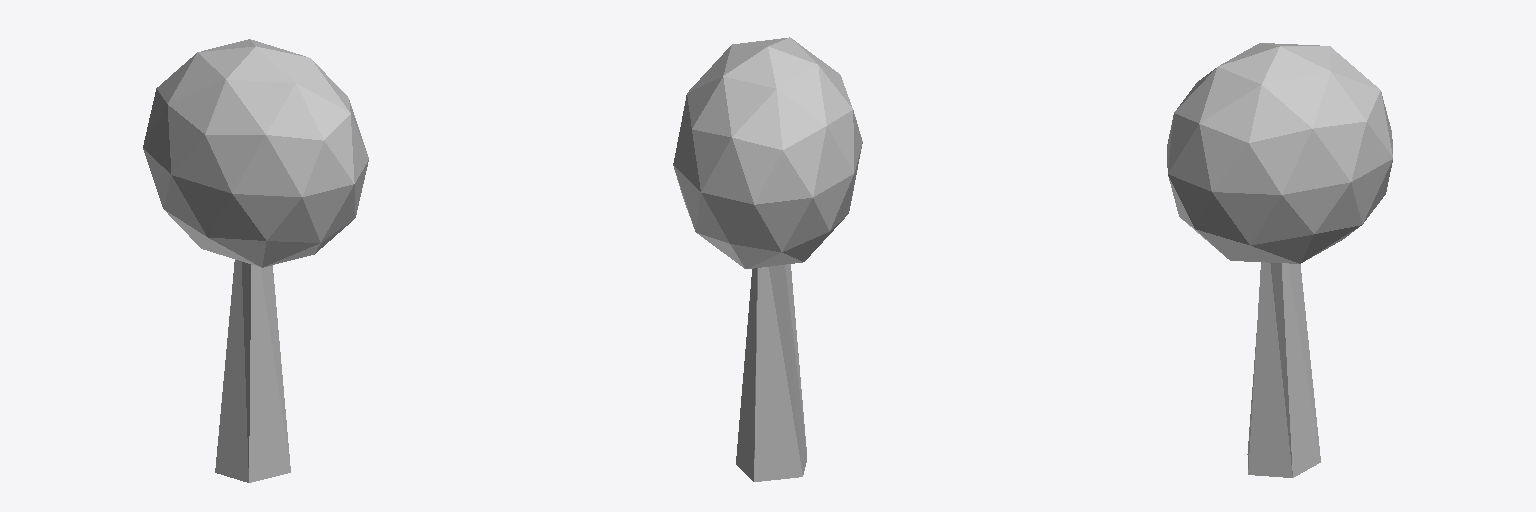
File: Tree2.obj
3 renders of one model, left to right at view 1: azimuth 30°, elevation 25°; view 2: azimuth 150°, elevation 25°; view 3: azimuth 270°, elevation 25°, orthographic.
Parts seen in each view (by area): view 1: Cylinder_005; view 2: Cylinder_005; view 3: Cylinder_005.
Part boxes in pixels (x1,y1,x2,y2): Cylinder_005: (143, 39, 368, 482); Cylinder_005: (673, 37, 862, 481); Cylinder_005: (1167, 43, 1392, 477).
Size of the model in its own units: 47.8 by 112 by 54.89.